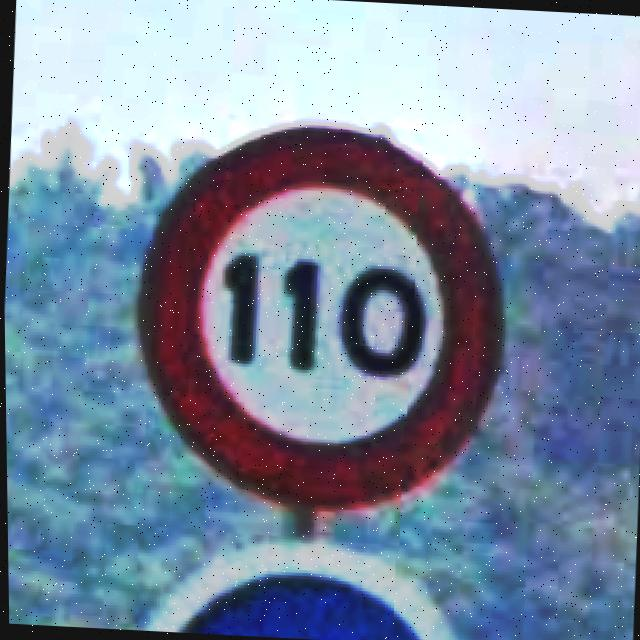max110: (121, 110, 517, 521)
